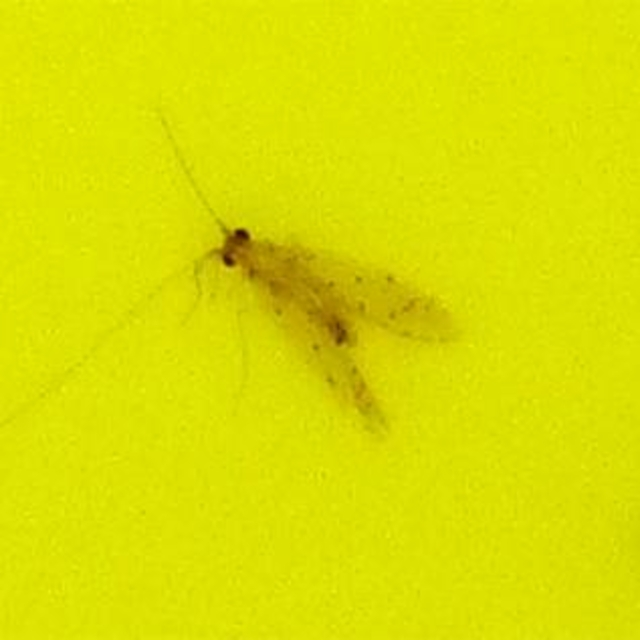Plecoptera: (202, 217, 438, 423)
